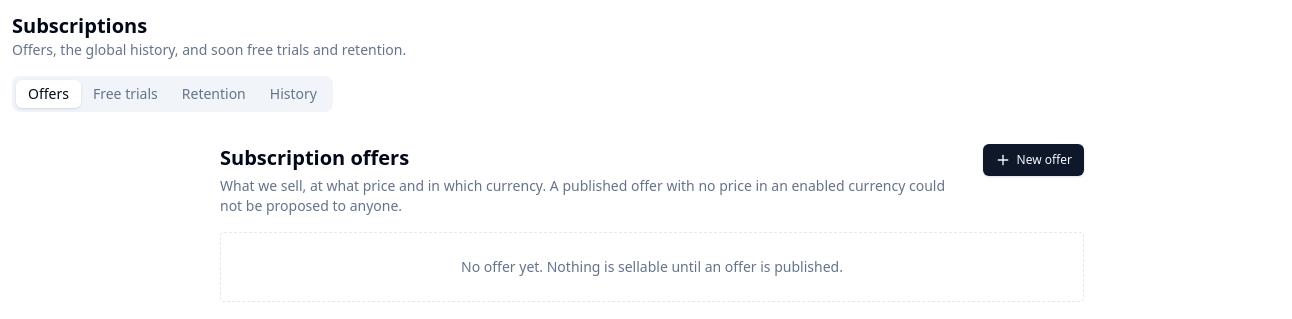
Scenario: AdminAbonnements › montre l'entrée orpheline au lieu de la faire disparaître
Click the tab "History" at point(293, 94), box [258, 80, 329, 108]
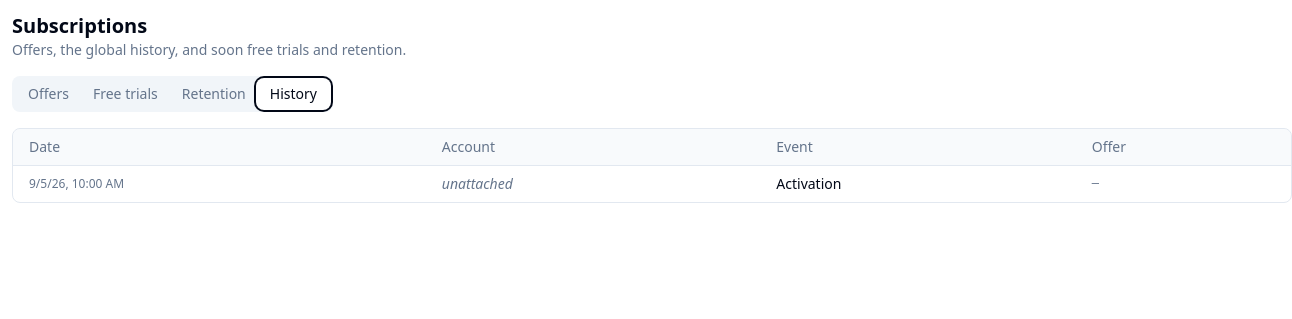
Expected: the text "unattached" is shown, [442, 174, 513, 193]
